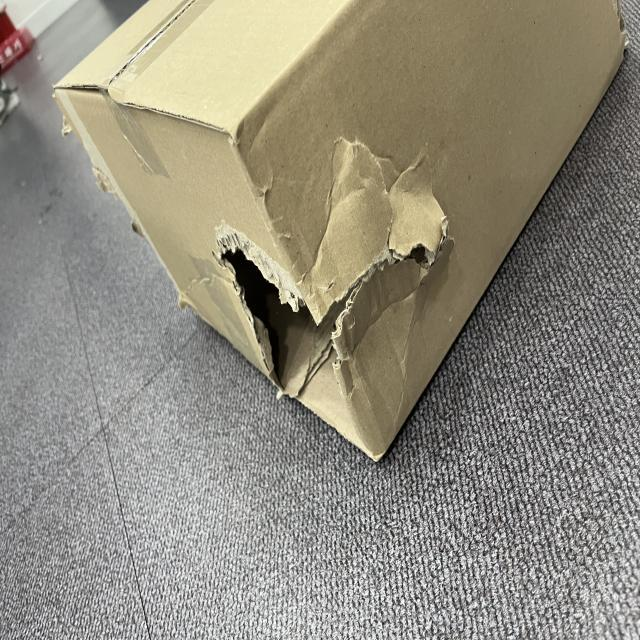hole: (220, 235, 430, 367)
